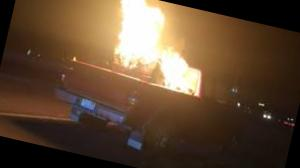Smoke: (93, 0, 217, 99)
